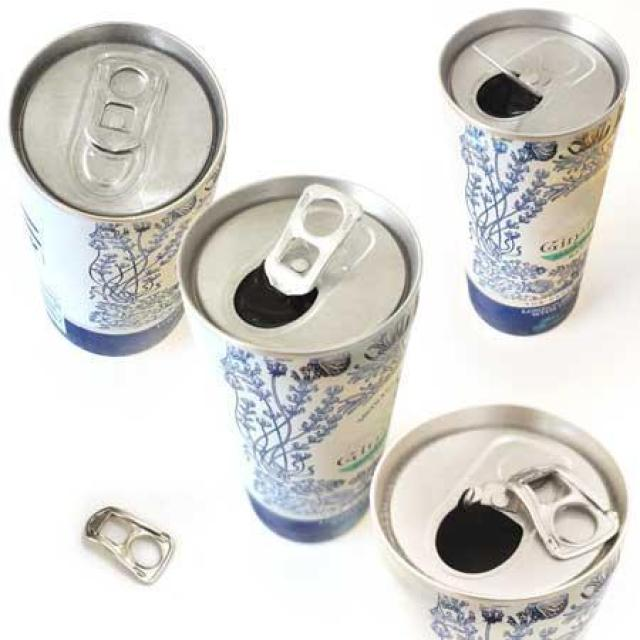can: (174, 172, 420, 549), (11, 23, 226, 361), (438, 7, 633, 340), (371, 397, 637, 640)
pop tab: (502, 458, 621, 564), (269, 174, 358, 308), (82, 47, 162, 165)
